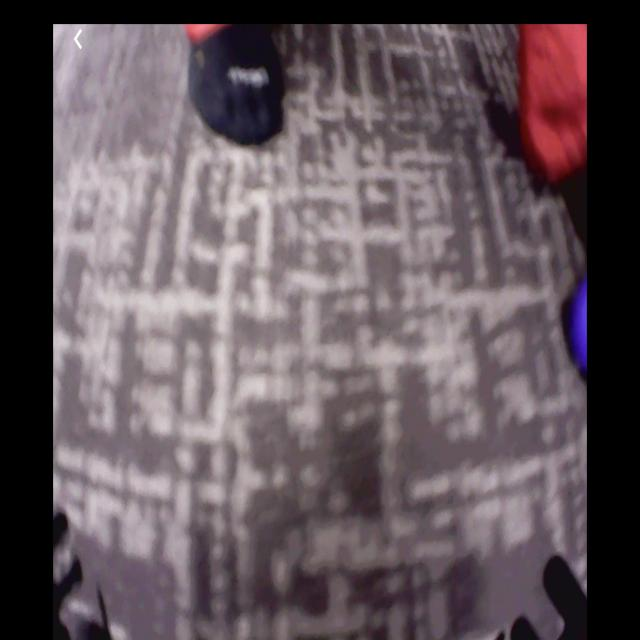ball: (571, 280, 589, 376)
